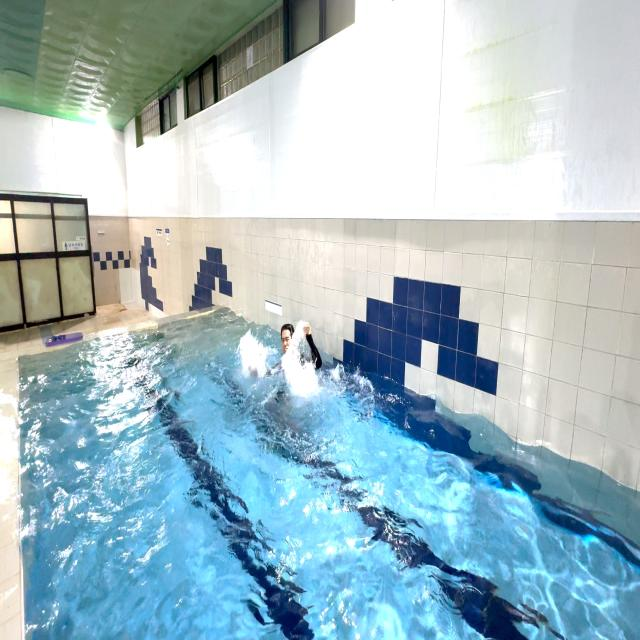Drowning: (237, 309, 331, 404)
